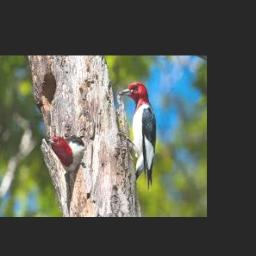Woodpecker: (118, 83, 157, 189), (47, 134, 85, 193)
